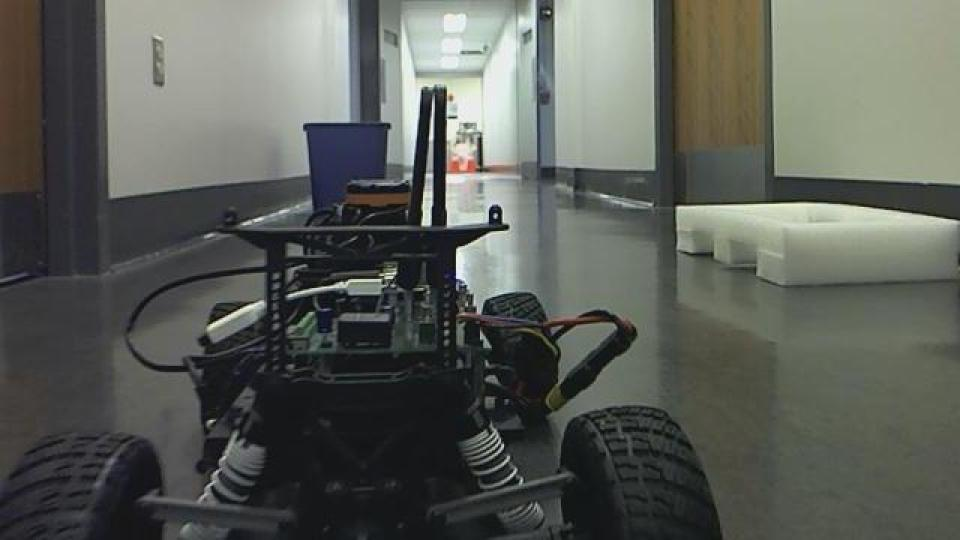car: (0, 69, 732, 540)
